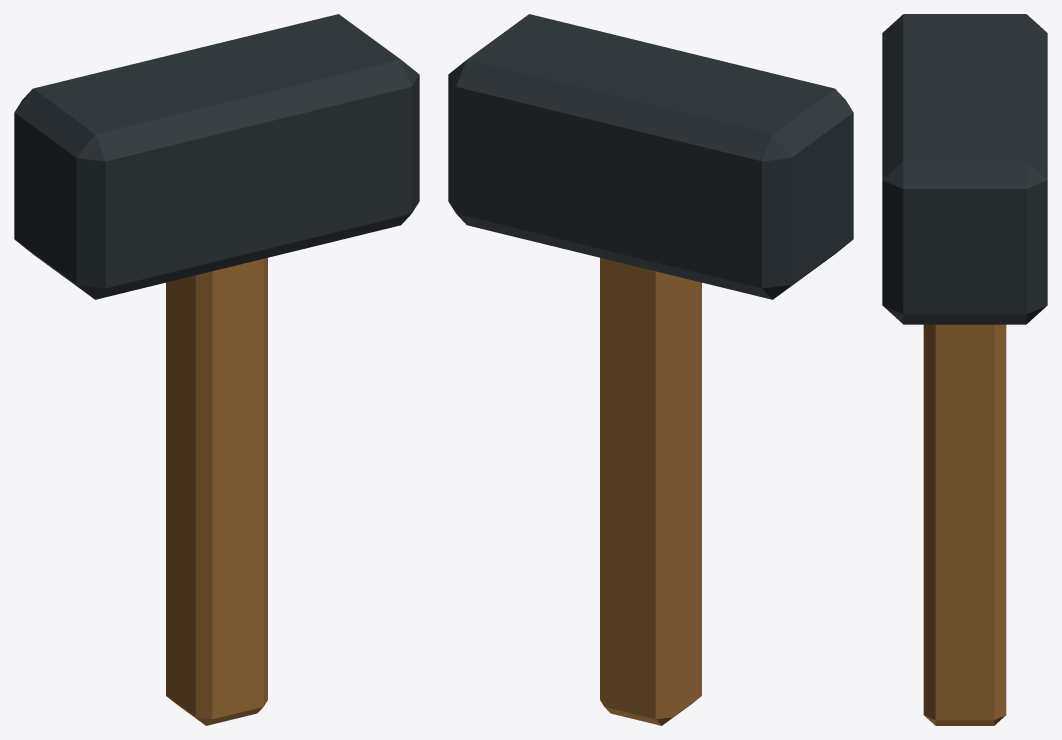
The model's file is Hammer.fbx.
3 views of the same model, side by side, from view 1: azimuth 30°, elevation 25°; view 2: azimuth 150°, elevation 25°; view 3: azimuth 270°, elevation 25° (orthographic).
Visible parts, largest first — view 1: Hammer_Export; view 2: Hammer_Export; view 3: Hammer_Export.
Boxes of the visible parts, x1=… form: Hammer_Export: x1=14, y1=14, x2=419, y2=725; Hammer_Export: x1=448, y1=14, x2=853, y2=725; Hammer_Export: x1=882, y1=14, x2=1047, y2=725.
Size of the model in its own units: 0.26 by 0.46 by 0.11.
